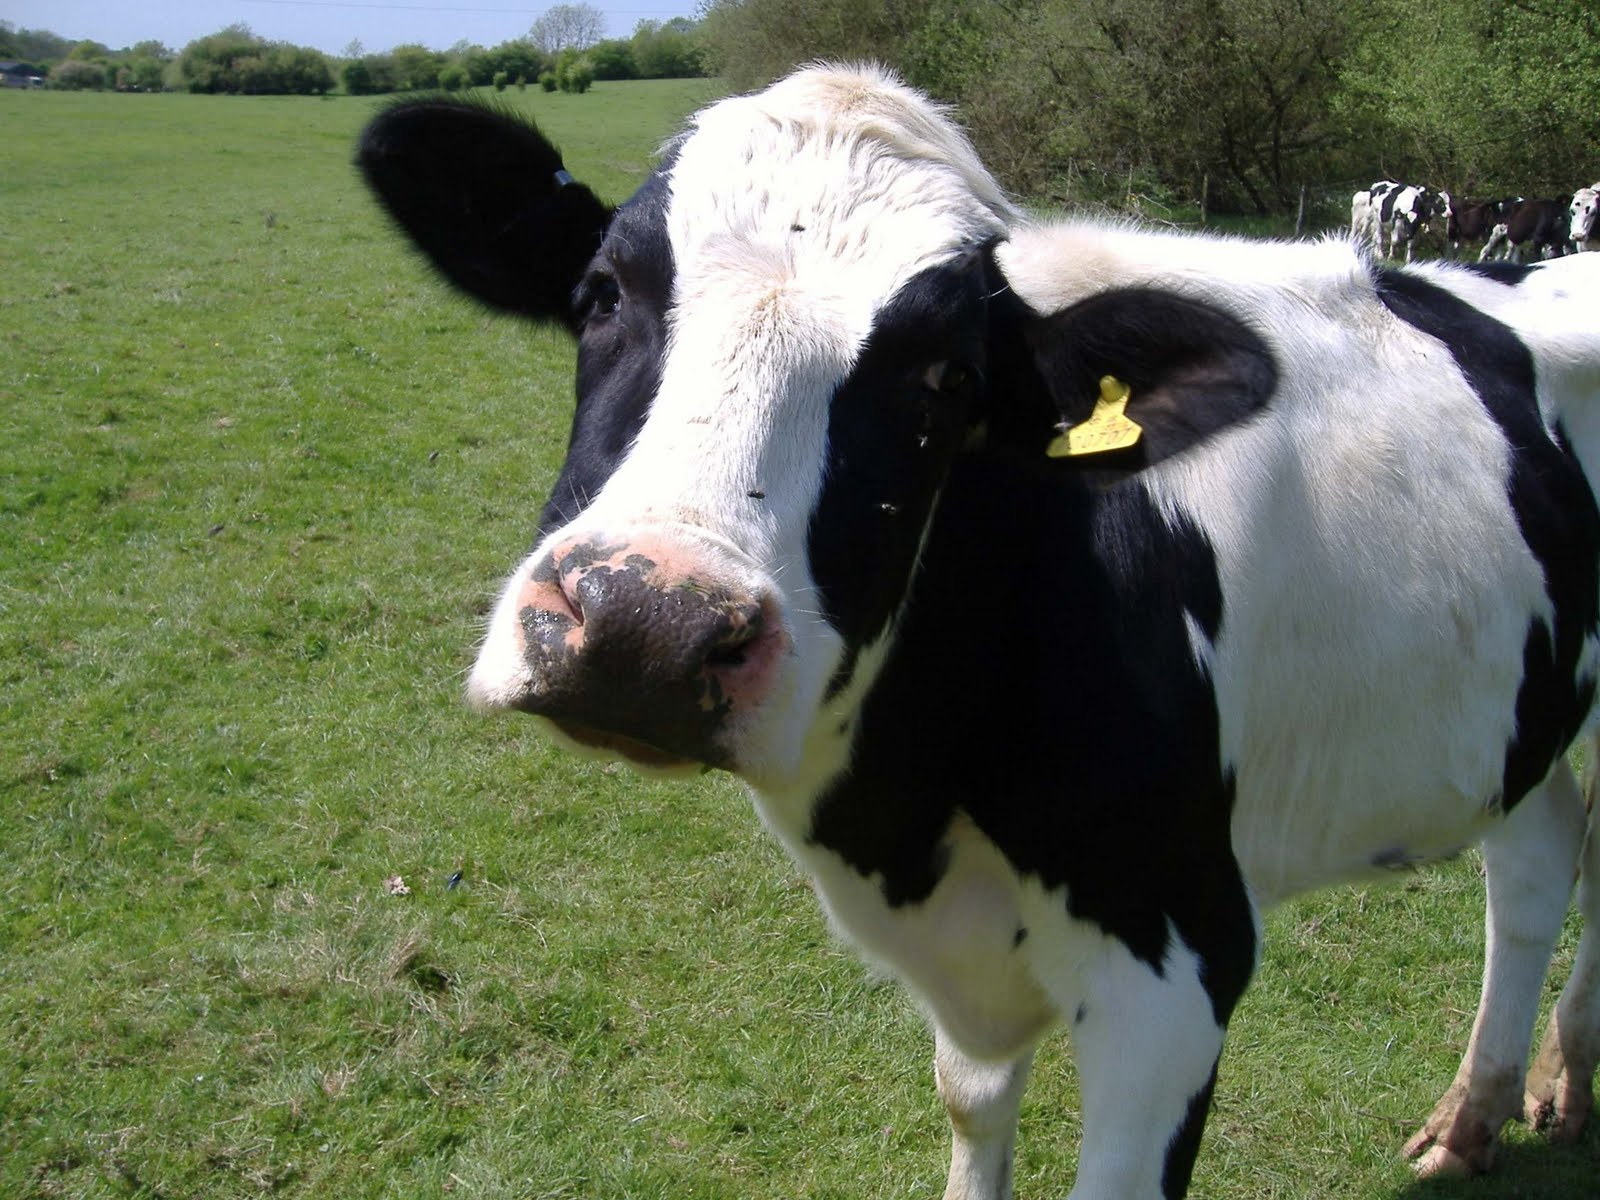cow: (354, 55, 1600, 1200)
